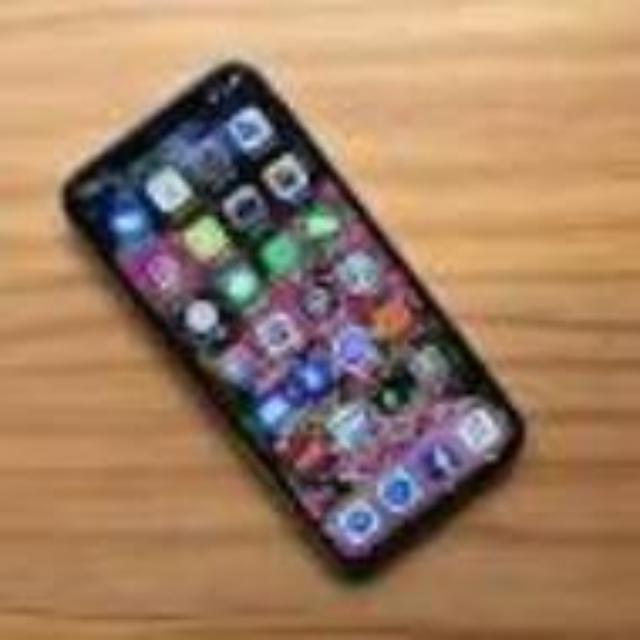phone: (36, 45, 578, 593)
